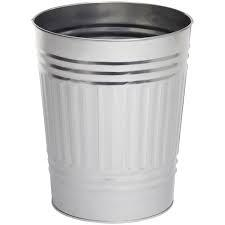Tin: (28, 0, 192, 225)
